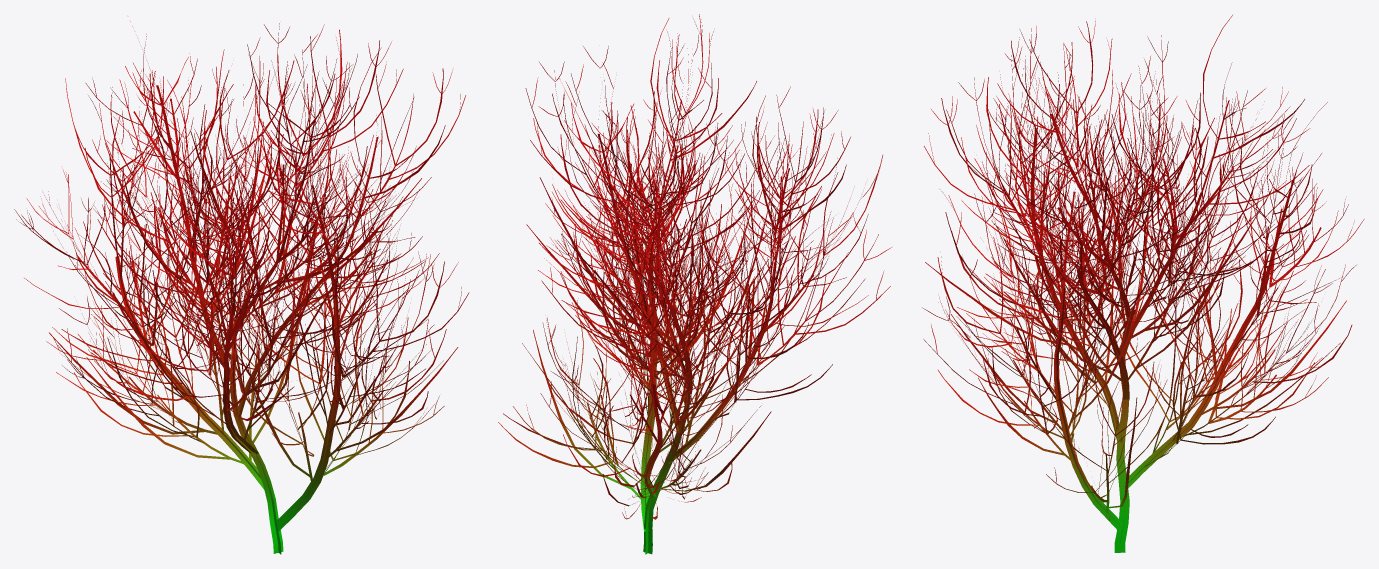
Rendered from Leptadenia_LOD3_Var1_xdkgfgtqx.fbx.
3 renders of one model, left to right at view 1: azimuth 30°, elevation 25°; view 2: azimuth 150°, elevation 25°; view 3: azimuth 270°, elevation 25°, orthographic. The views are drawn at different scales.
Parts seen in each view (by area): view 1: _63r4_Var1_LOD3; view 2: _63r4_Var1_LOD3; view 3: _63r4_Var1_LOD3.
Boxes of the visible parts, <box> form: _63r4_Var1_LOD3: <box>14,21,469,554</box>; _63r4_Var1_LOD3: <box>498,14,891,554</box>; _63r4_Var1_LOD3: <box>922,15,1364,552</box>.
Size of the model in its own units: 119 by 177 by 136.
